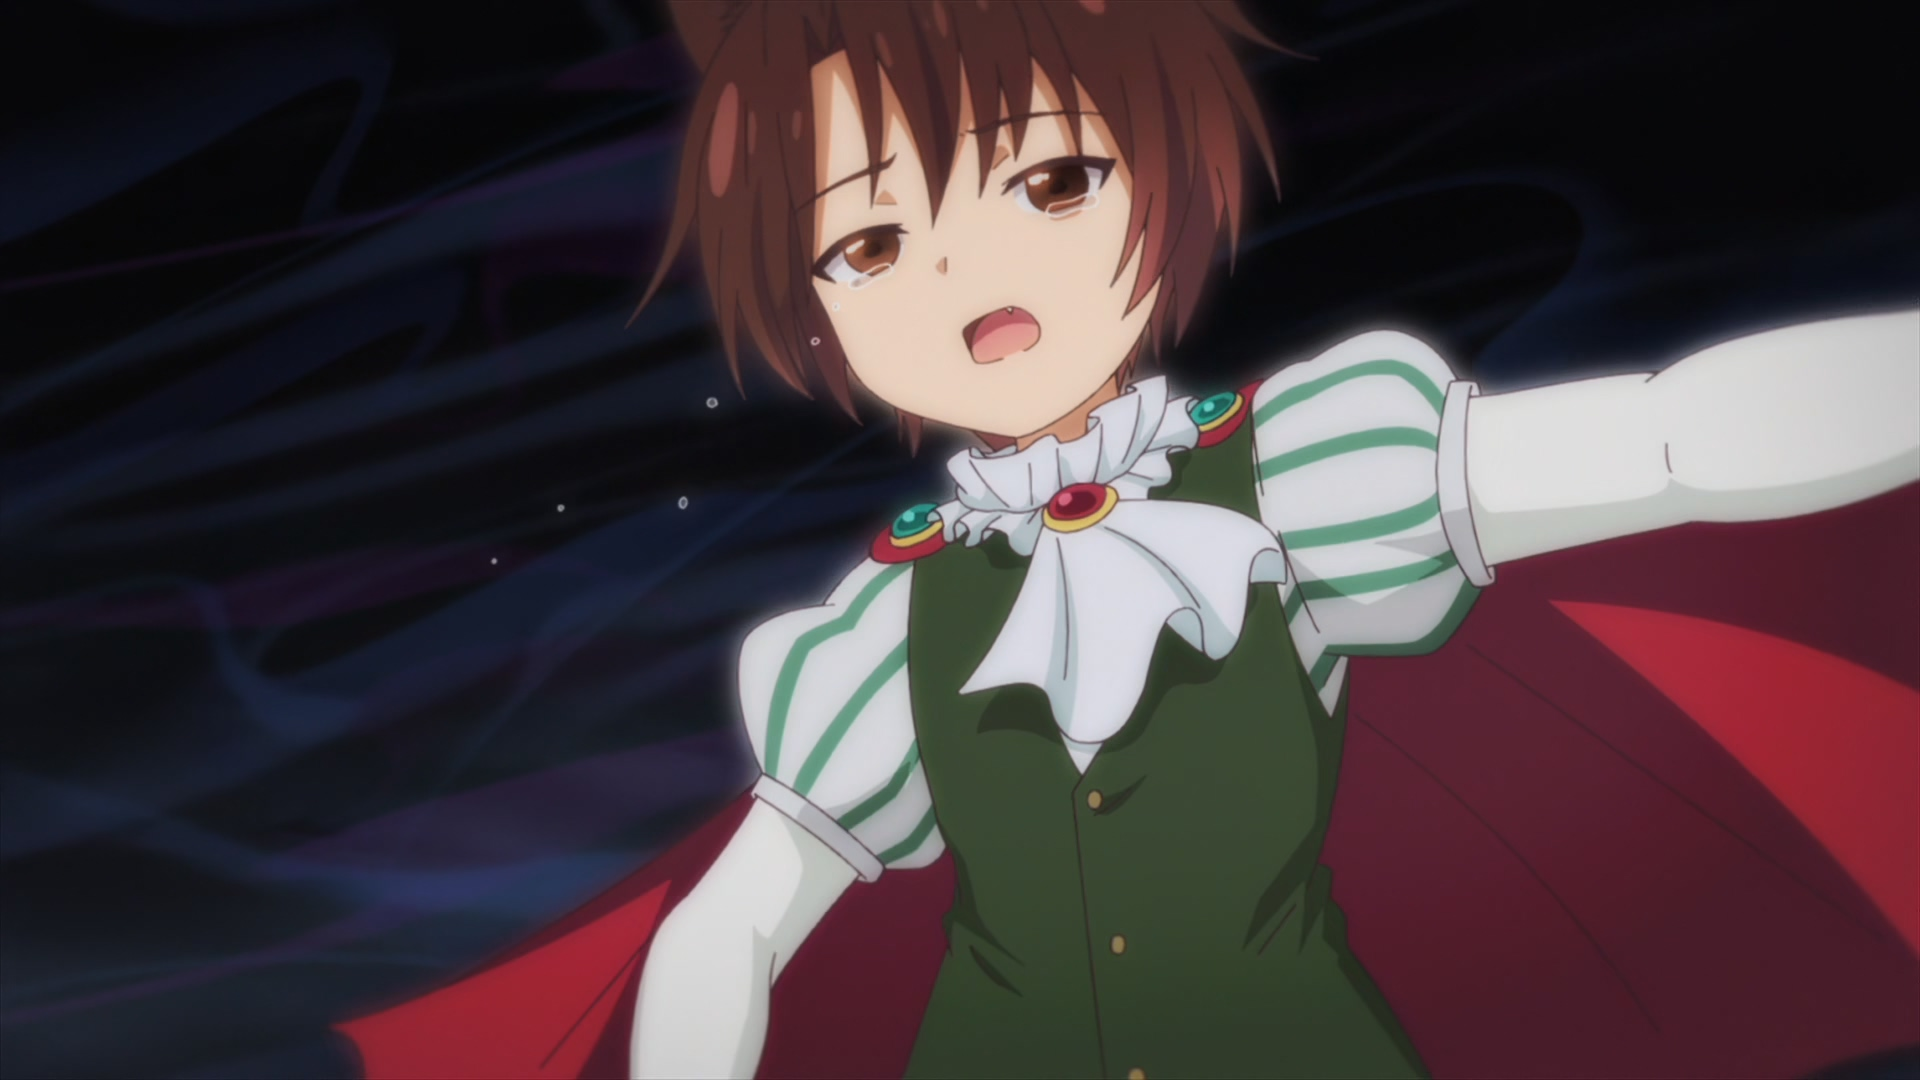枣: (338, 1, 1920, 1080)
